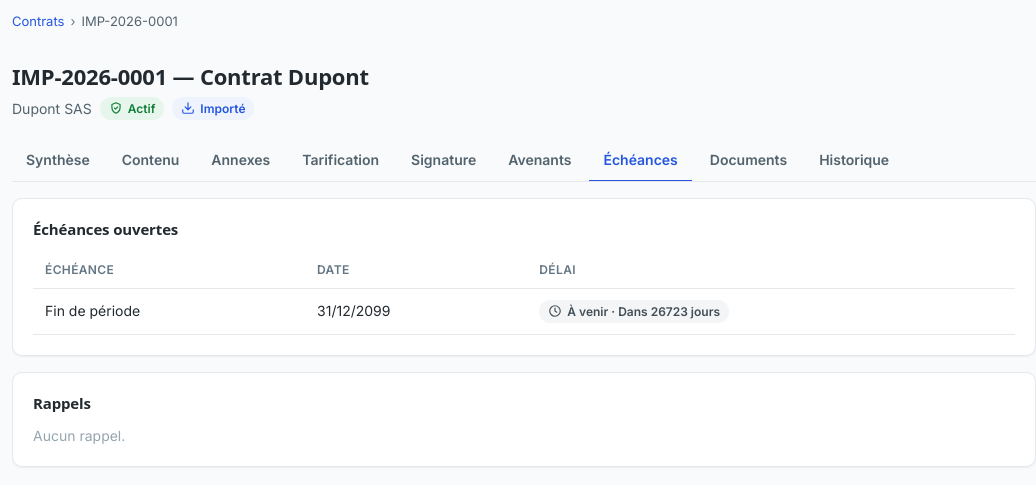
it: ?onglet=echeances ouvre les échéances du contrat ; Documents propose l’original
Expected: the text "Fin de période" is shown, top-left (33, 289), bottom-right (305, 334)
Click the tab "Documents" at [748, 161], box top-left (696, 140), bottom-right (801, 182)
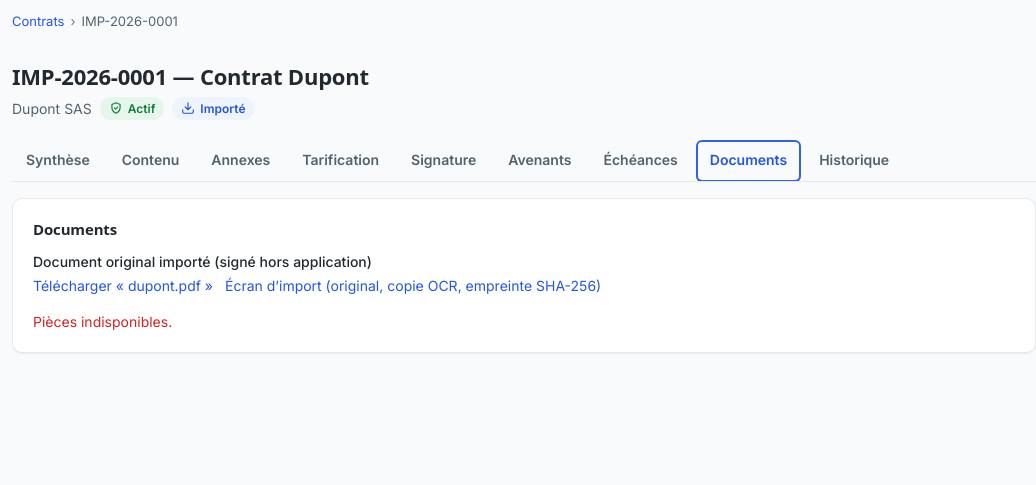
Click the tab "Signature" at [444, 161], box top-left (397, 140), bottom-right (490, 182)
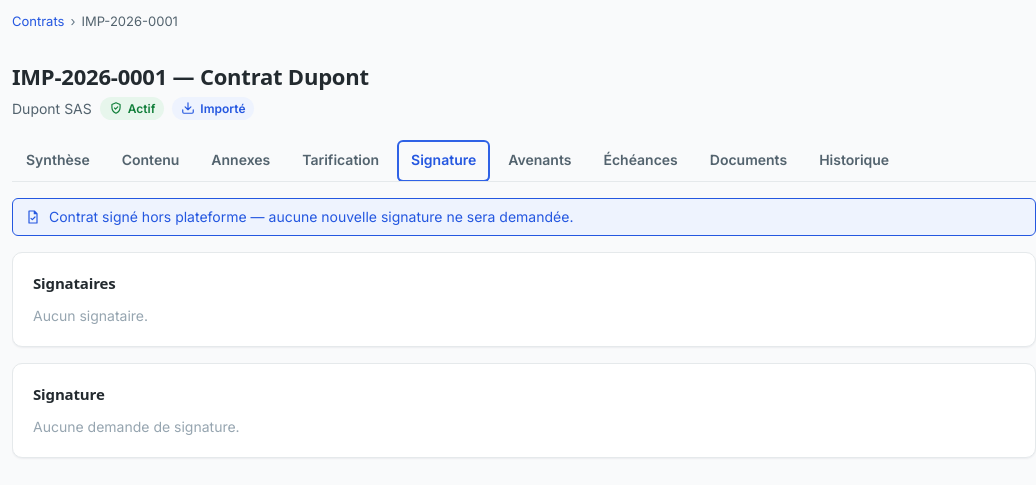
Expected: the text "aucune nouvelle signature ne sera demandée" is shown, top-left (49, 208), bottom-right (573, 225)
